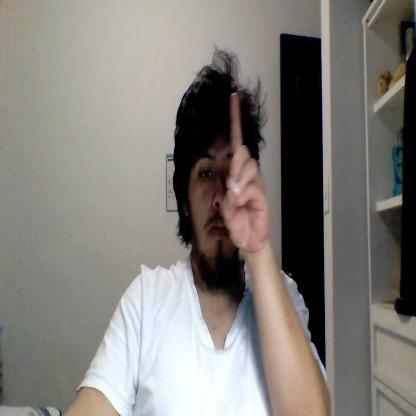D: (221, 92, 269, 243)
